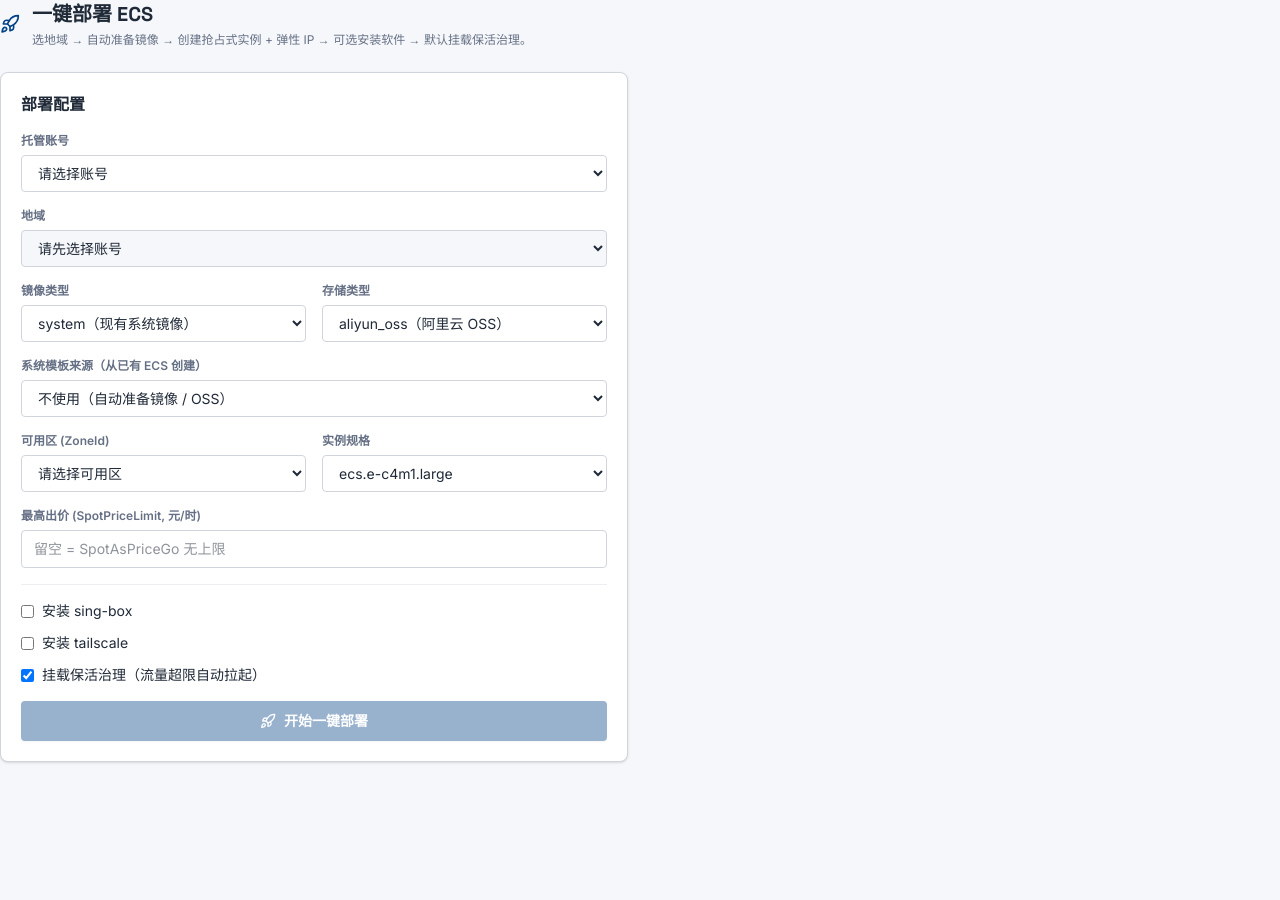
DeploymentPage form › renders auto-installer timeout fallback with VNC guidance and continue button
Select "Account A" in the dropdown labelled "托管账号": [314, 174] box [21,155,607,192]
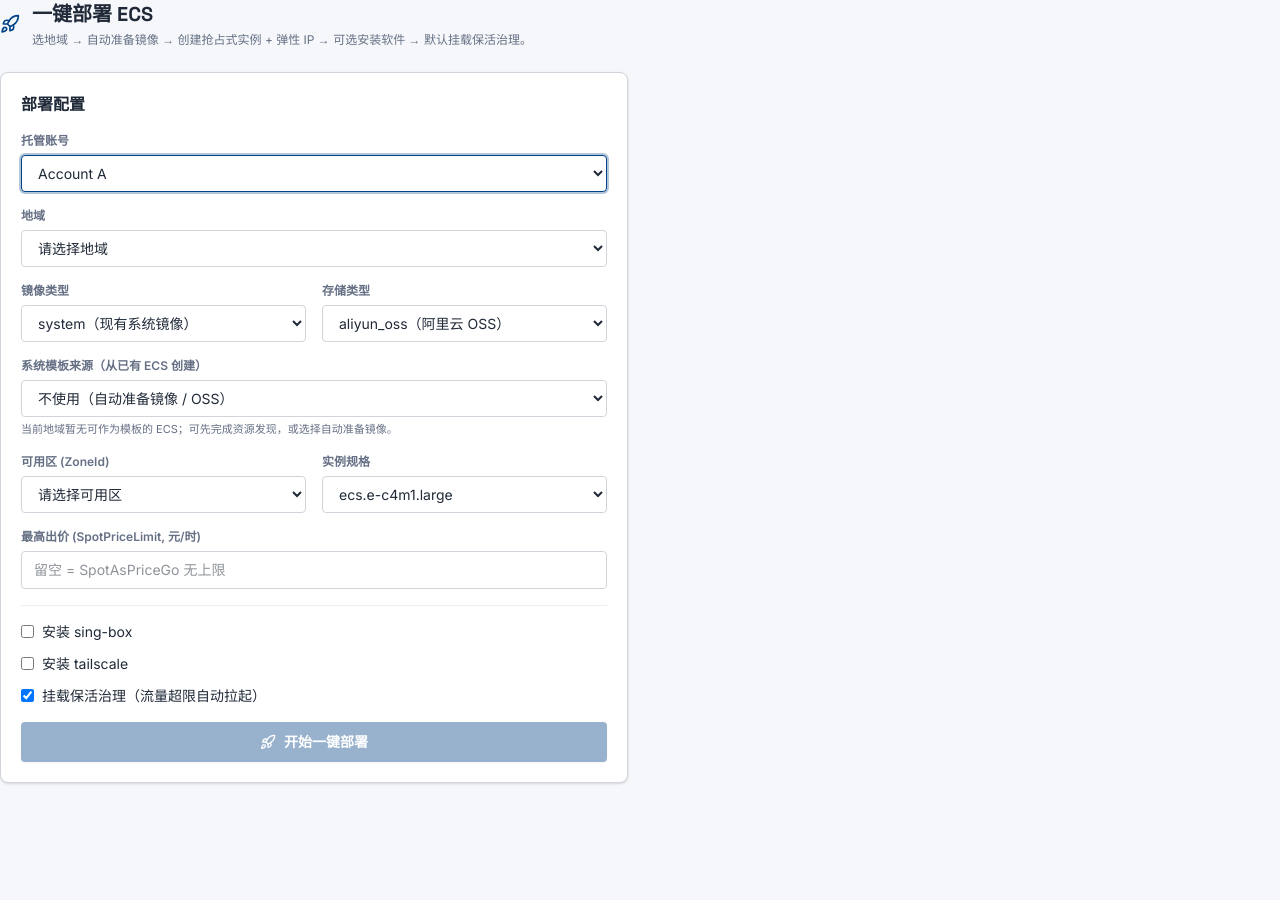
Select "美国 (硅谷) (us-west-1)" in the dropdown labelled "地域": [314, 248] box [21,230,607,267]
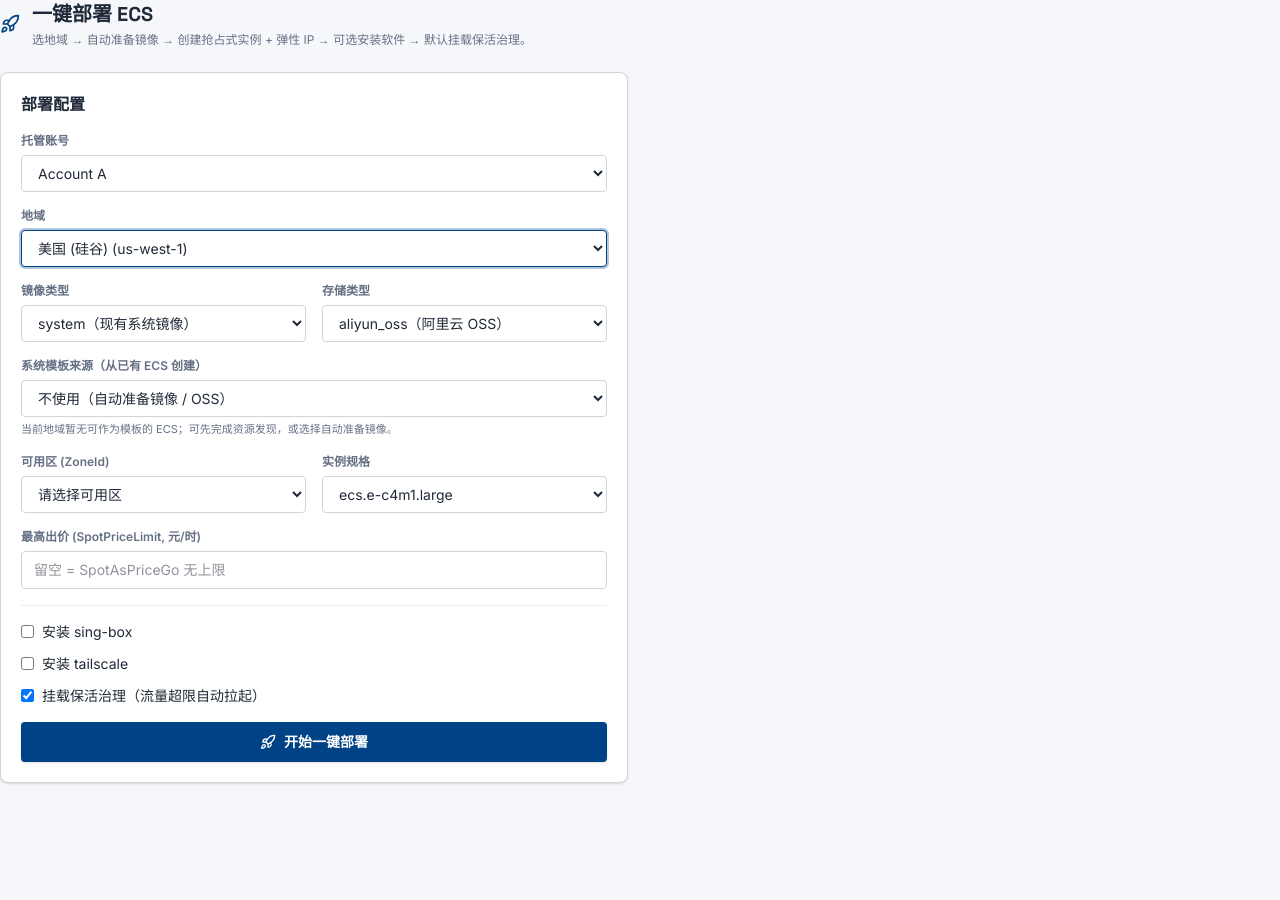
Click the button "开始一键部署": [314, 742] box [21,722,607,762]
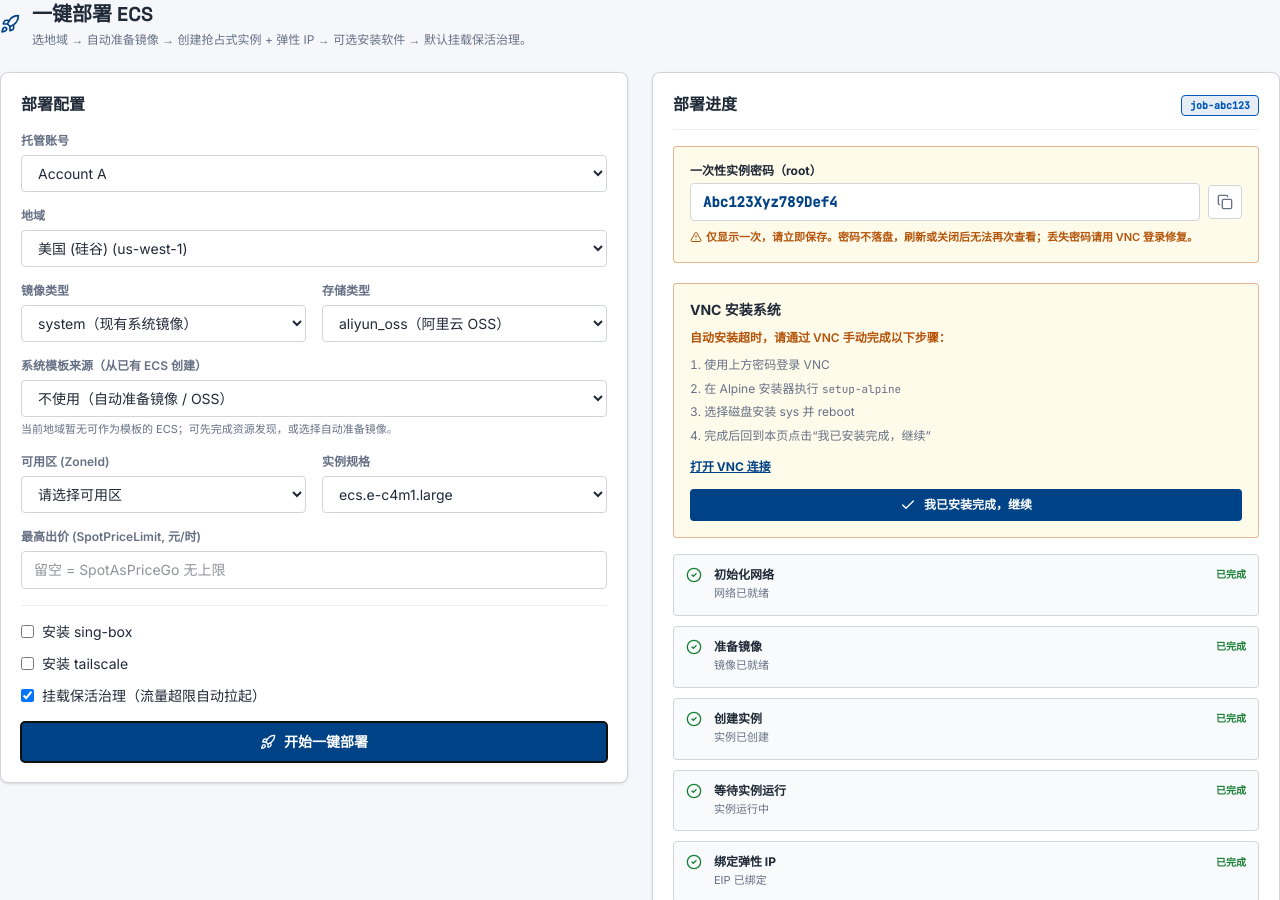
Expected: the text "自动安装超时，请通过 VNC 手动完成以下步骤：" is shown, [690,330,951,344]
Expected: the text "setup-alpine" is shown, [822,382,901,396]
Expected: the button "我已安装完成，继续" is shown, [690,489,1242,521]
